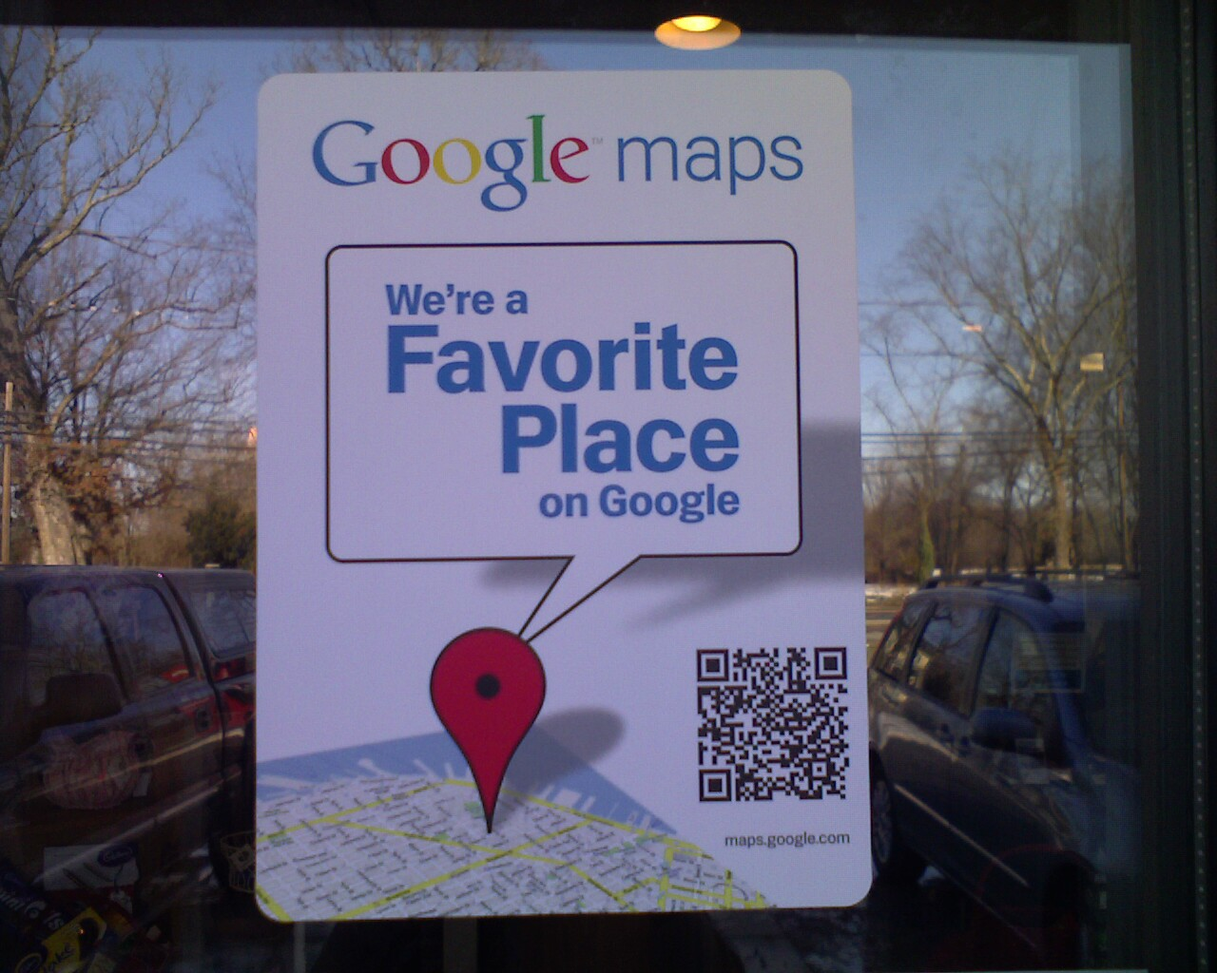QR-CODE: (697, 647, 849, 801)
